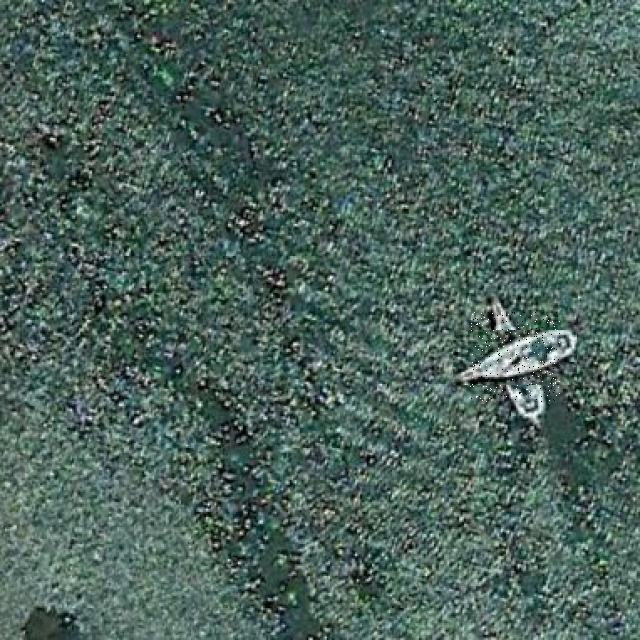boat: (470, 312, 560, 402)
